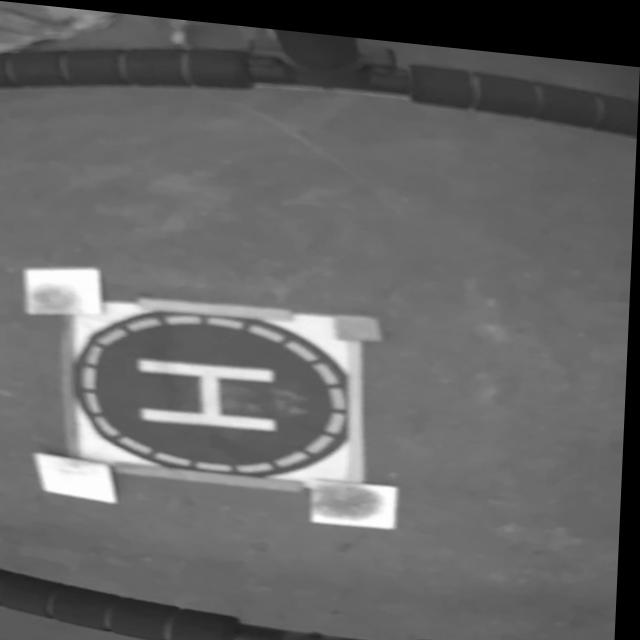Helipad: (137, 354, 282, 424)
